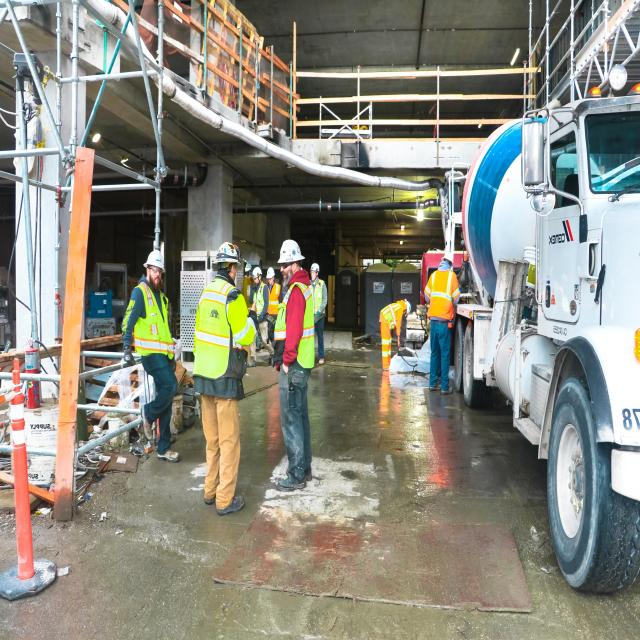helmet: (272, 230, 308, 268), (206, 239, 242, 269), (138, 248, 172, 274)
jacket: (187, 292, 260, 386), (269, 288, 325, 378), (115, 286, 177, 366)
